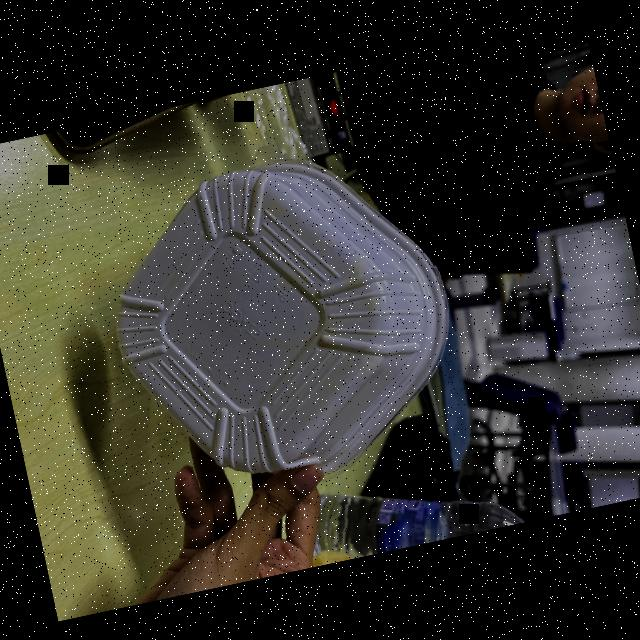plastic_box: (81, 133, 479, 516)
